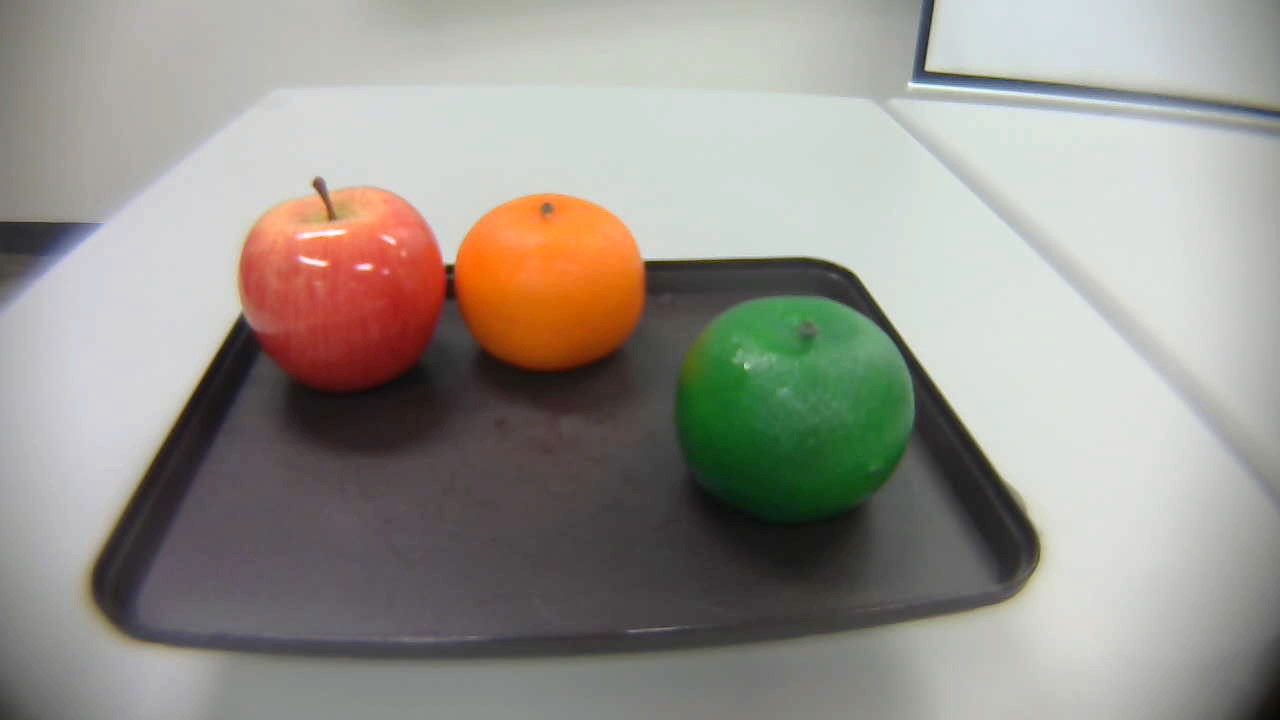green orange: (675, 295, 917, 514)
orange: (444, 193, 647, 379)
red apple: (233, 177, 447, 397)
